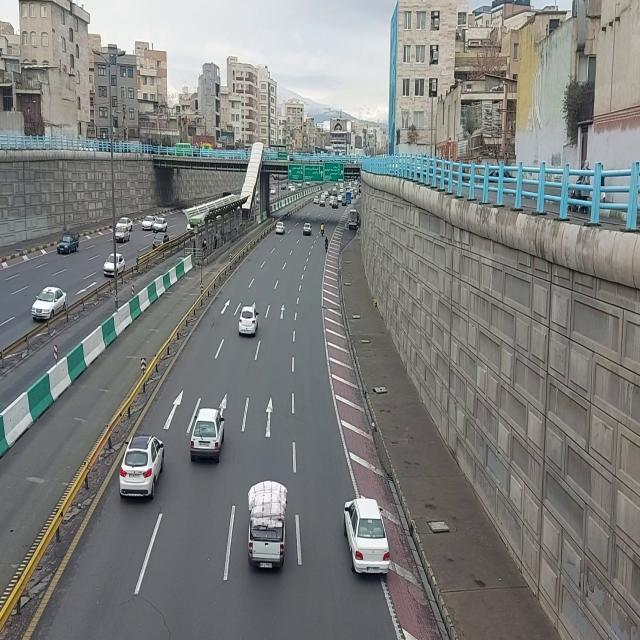Car: (343, 496, 391, 578), (119, 435, 166, 500), (190, 409, 226, 463), (30, 285, 68, 323), (238, 305, 260, 338), (103, 252, 125, 280), (153, 232, 170, 250), (115, 227, 131, 243), (141, 215, 155, 231), (115, 216, 133, 228), (153, 216, 167, 231), (276, 220, 286, 234), (303, 222, 313, 236), (332, 200, 340, 209), (319, 198, 325, 207), (342, 198, 348, 206), (313, 195, 319, 203), (337, 194, 343, 202), (320, 193, 326, 199), (329, 197, 333, 205)
Motorcycle: (324, 236, 328, 253), (320, 221, 324, 238), (358, 188, 360, 196), (354, 193, 356, 199)
Pickup: (248, 477, 290, 573), (57, 230, 81, 257), (346, 192, 352, 204)
